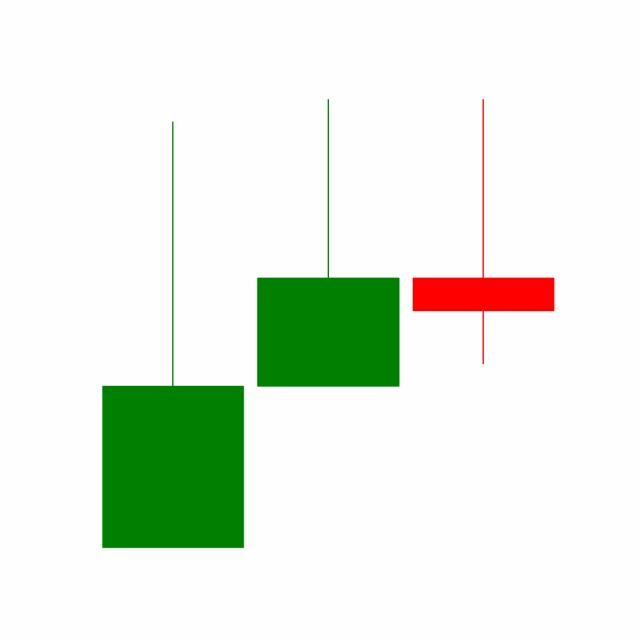Gravestone Doji: (405, 96, 561, 367)
